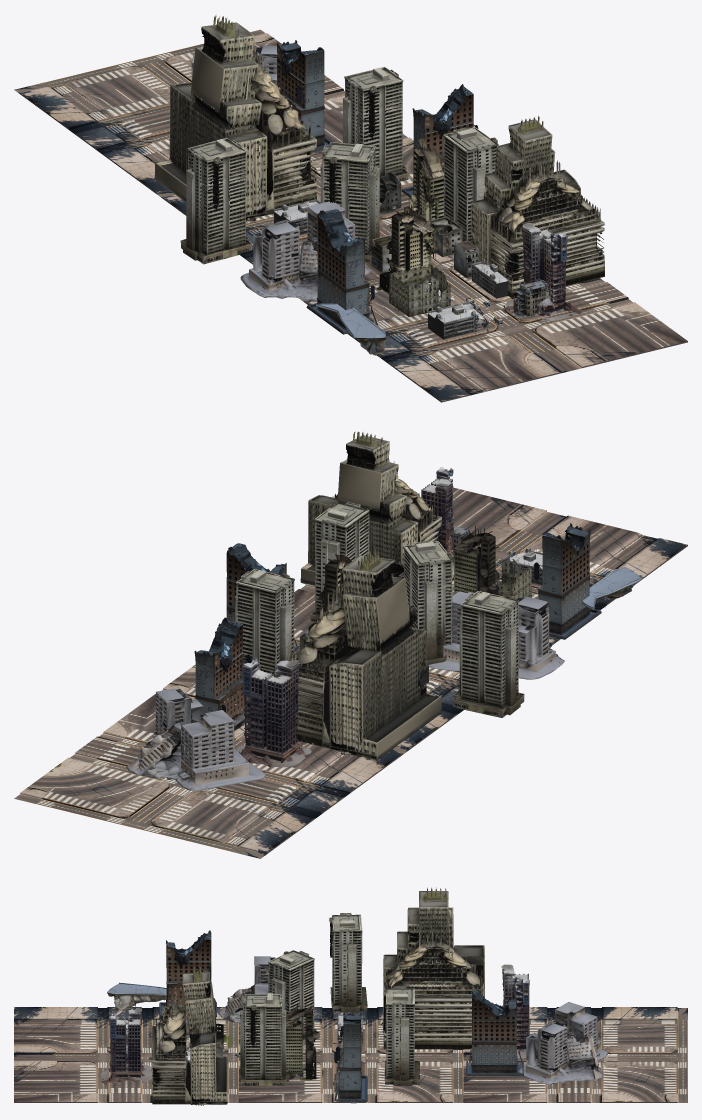
Rendered from city_b.glb.
3 renders of one model, top to bottom at view 1: azimuth 30°, elevation 25°; view 2: azimuth 150°, elevation 25°; view 3: azimuth 270°, elevation 25°, orthographic. The views are drawn at different scales.
Visible parts, largest first — view 1: Plane, node_0.006_Material.007_0, node_0.004_Material.007_0, node_0.014_Material.011_0, node_0.013_Material.014_0, node_0.008_Material.011_0, node_0.011_Material.013_0, node_0.009_Material.011_0, node_0.019_Material.011_0, node_0.012_Material.013_0, node_0.002_Material.006_0, node_0.015_Material.015_0 (+10 smaller); view 2: Plane, node_0.006_Material.007_0, node_0.004_Material.007_0, node_0.017_Material.014_0, node_0.014_Material.011_0, node_0.016_Material.006_0, node_0.008_Material.011_0, node_0.011_Material.013_0, node_0.009_Material.011_0, node_0.012_Material.013_0, node_0.013_Material.014_0, node_0.019_Material.011_0 (+7 smaller); view 3: Plane, node_0.006_Material.007_0, node_0.004_Material.007_0, node_0.017_Material.014_0, node_0.019_Material.011_0, node_0.012_Material.013_0, node_0.014_Material.011_0, node_0.008_Material.011_0, node_0.009_Material.011_0, node_0.002_Material.006_0, node_0.018_Material.013_0, node_0.011_Material.013_0 (+4 smaller).
Part boxes in pixels (x1,y1,x2,y2): Plane: (14, 29, 687, 402); node_0.006_Material.007_0: (154, 15, 316, 221); node_0.004_Material.007_0: (471, 115, 604, 299); node_0.014_Material.011_0: (180, 138, 252, 264); node_0.013_Material.014_0: (240, 201, 370, 301); node_0.008_Material.011_0: (343, 66, 408, 181); node_0.011_Material.013_0: (306, 209, 378, 334); node_0.009_Material.011_0: (320, 142, 379, 262); node_0.019_Material.011_0: (443, 127, 498, 244); node_0.012_Material.013_0: (276, 40, 331, 152); node_0.002_Material.006_0: (503, 223, 582, 321); node_0.015_Material.015_0: (371, 172, 479, 278); Plane: (14, 487, 687, 858); node_0.006_Material.007_0: (286, 548, 441, 759); node_0.004_Material.007_0: (300, 431, 441, 585); node_0.017_Material.014_0: (126, 688, 265, 790); node_0.014_Material.011_0: (452, 591, 524, 717); node_0.016_Material.006_0: (236, 656, 313, 767); node_0.008_Material.011_0: (235, 569, 294, 677); node_0.011_Material.013_0: (534, 523, 601, 639); node_0.009_Material.011_0: (403, 540, 453, 664); node_0.012_Material.013_0: (194, 617, 251, 730); node_0.013_Material.014_0: (428, 591, 564, 679); node_0.019_Material.011_0: (310, 502, 369, 622); Plane: (14, 1007, 687, 1102); node_0.006_Material.007_0: (380, 887, 484, 1049); node_0.004_Material.007_0: (152, 967, 227, 1105); node_0.017_Material.014_0: (518, 1002, 608, 1084); node_0.019_Material.011_0: (239, 993, 289, 1085); node_0.012_Material.013_0: (463, 990, 523, 1075); node_0.014_Material.011_0: (329, 913, 367, 1012); node_0.008_Material.011_0: (383, 986, 419, 1085); node_0.009_Material.011_0: (268, 950, 320, 1045); node_0.002_Material.006_0: (100, 1007, 152, 1084); node_0.018_Material.013_0: (333, 1012, 367, 1103); node_0.011_Material.013_0: (159, 930, 219, 1017).
Bounding box in the file's own units: 19.88 × 11.72 × 49.77.
Materials: 16 (16 with a texture image).
